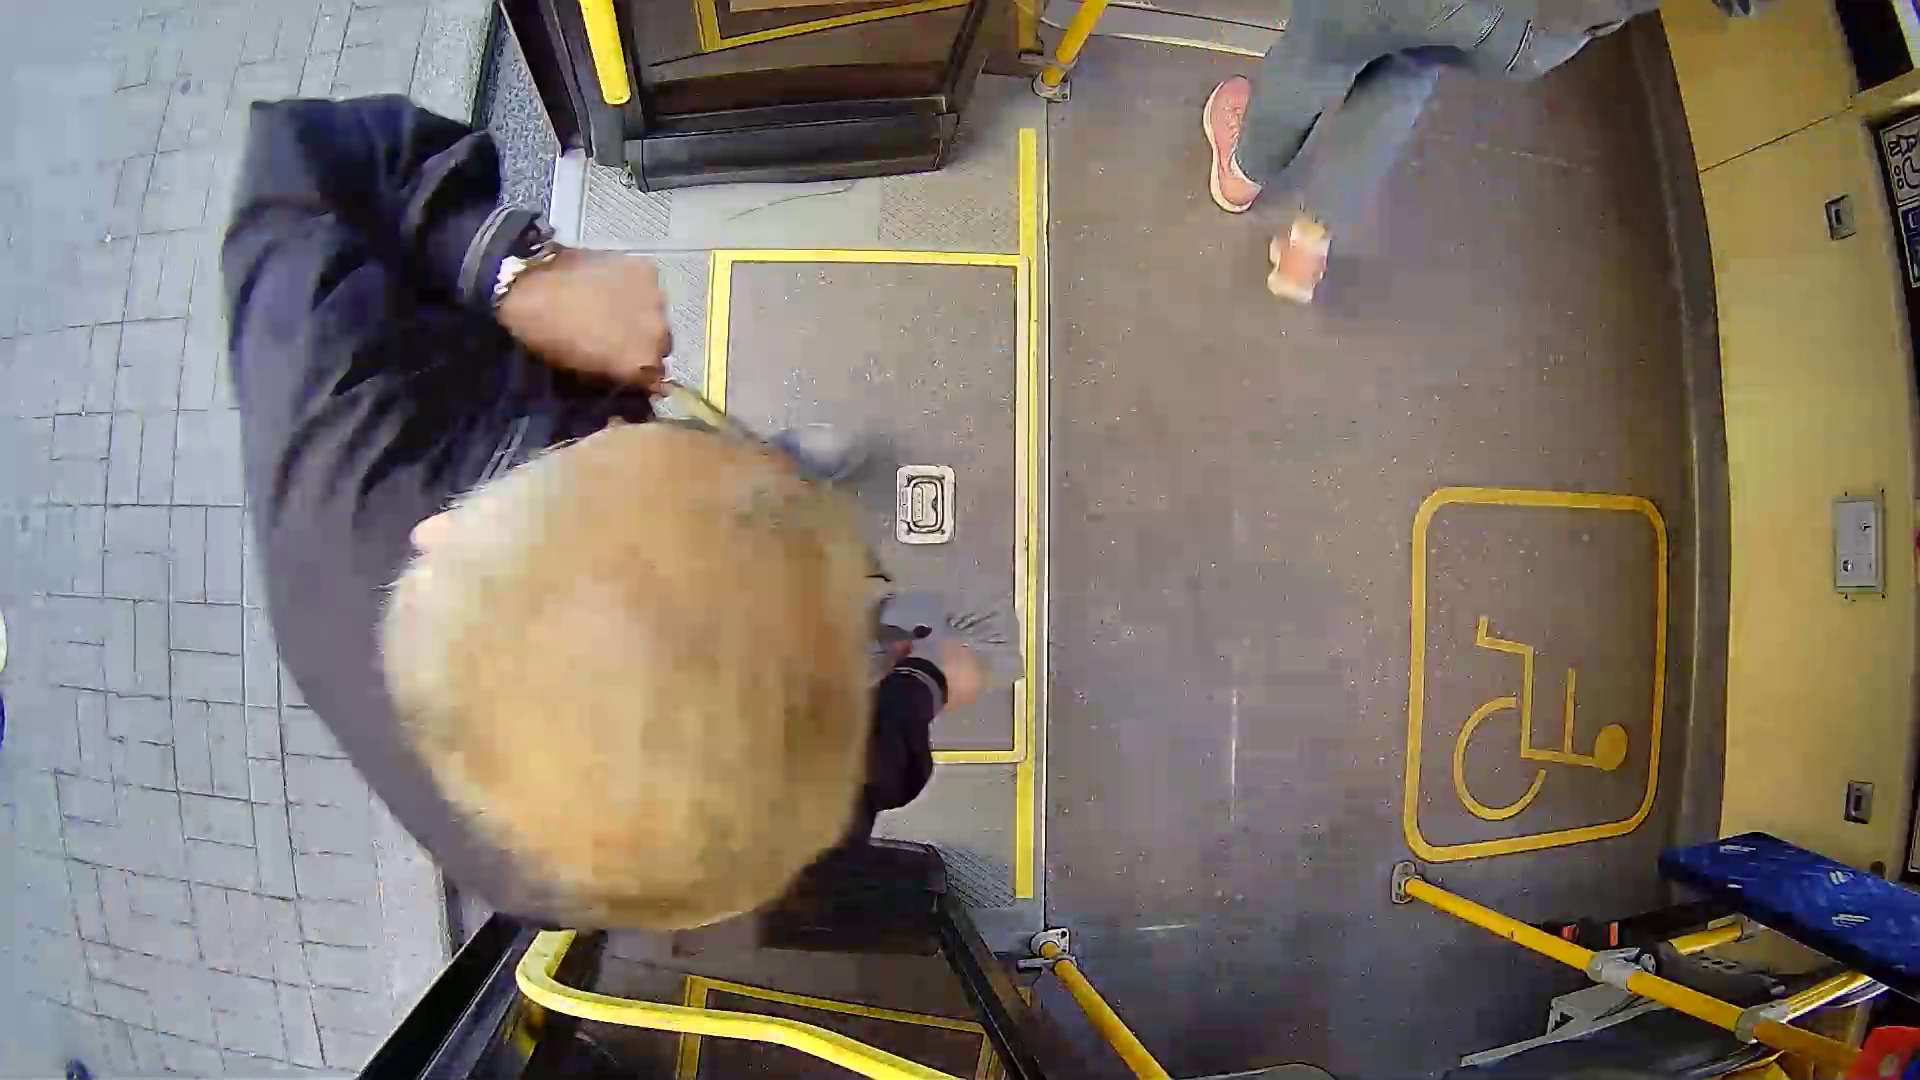person: (175, 211, 1079, 926)
